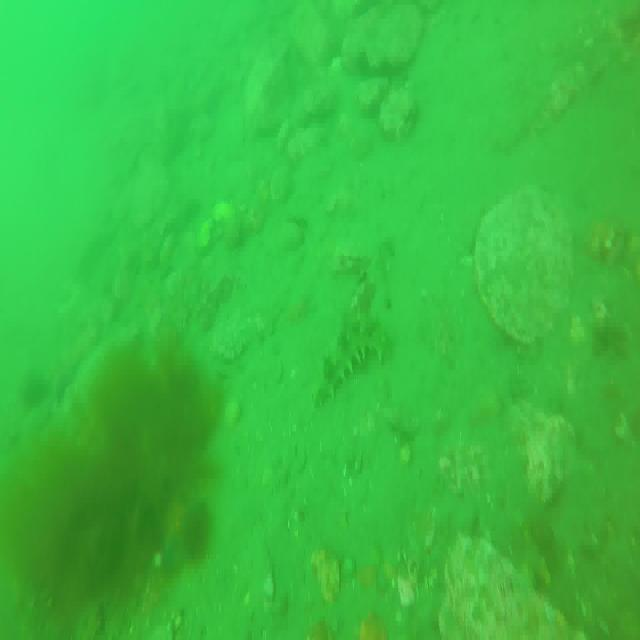holothurian: (313, 314, 388, 408)
starfish: (149, 488, 216, 570)
